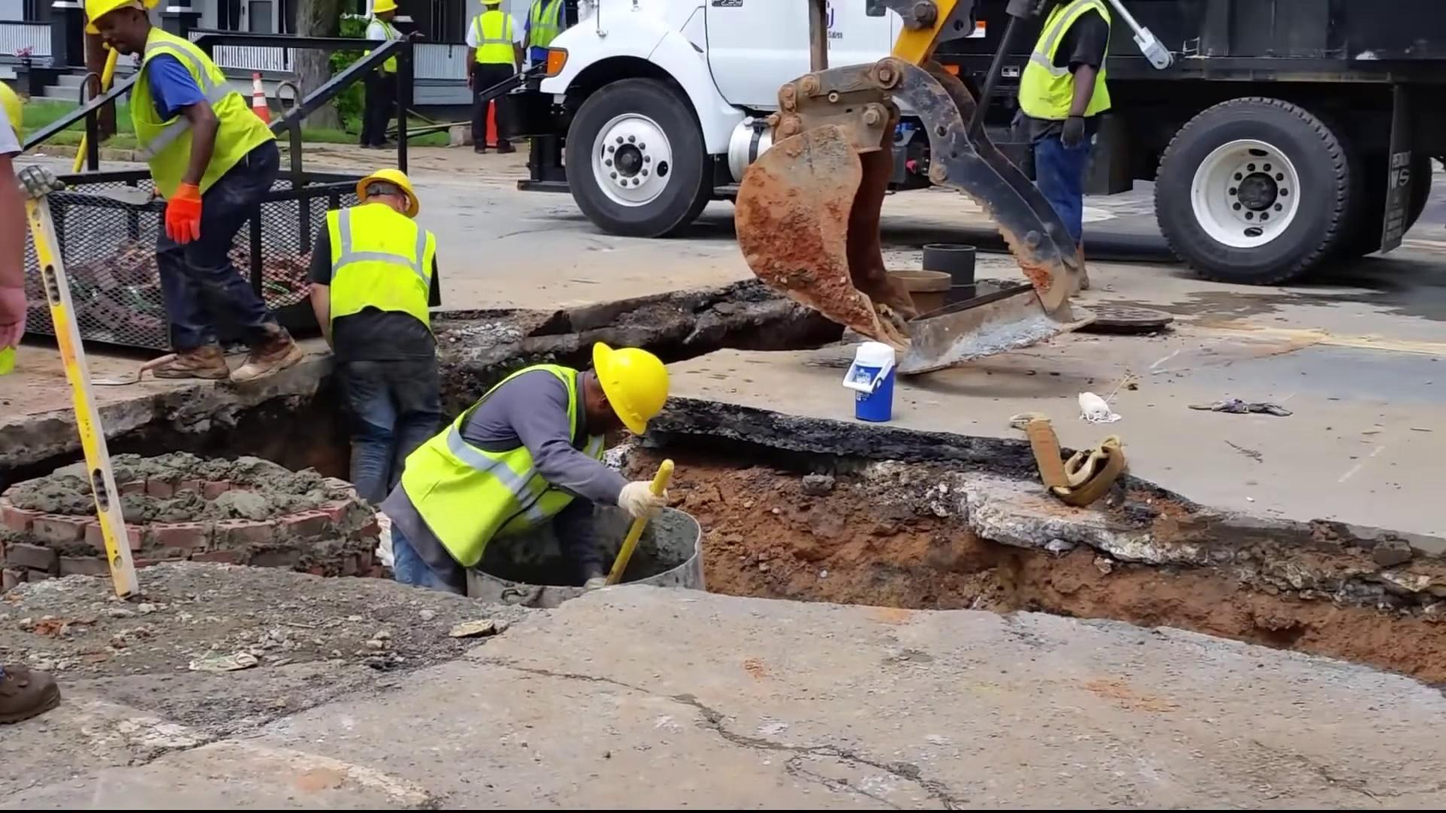apron: (612, 474, 674, 525), (165, 186, 205, 250), (14, 159, 73, 202)
